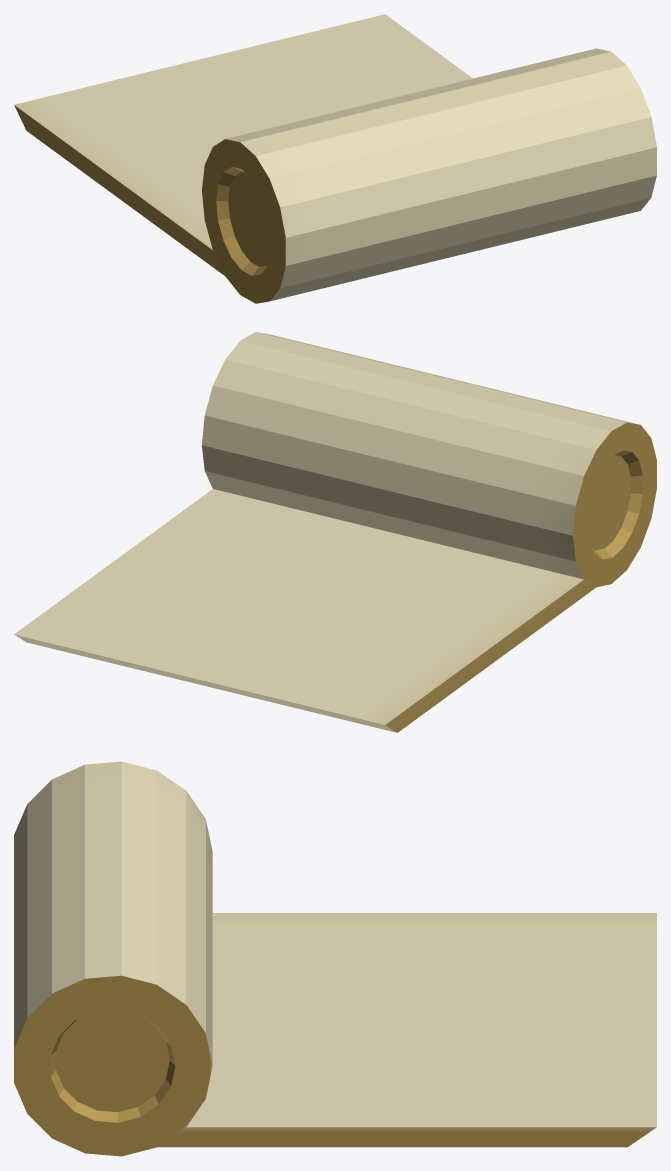
The model's file is pergaminho_aberto.fbx.
3 views of the same model, one above another, from view 1: azimuth 30°, elevation 25°; view 2: azimuth 150°, elevation 25°; view 3: azimuth 270°, elevation 25° (orthographic). The views are drawn at different scales.
Parts seen in each view (by area): view 1: Cylinder; view 2: Cylinder; view 3: Cylinder.
Boxes of the visible parts, x1,y1,x2,y2 form: Cylinder: [14, 14, 656, 303]; Cylinder: [14, 332, 656, 732]; Cylinder: [14, 761, 656, 1156].
Size of the model in its own units: 506 by 199 by 642.
1 material, 1 textured.
